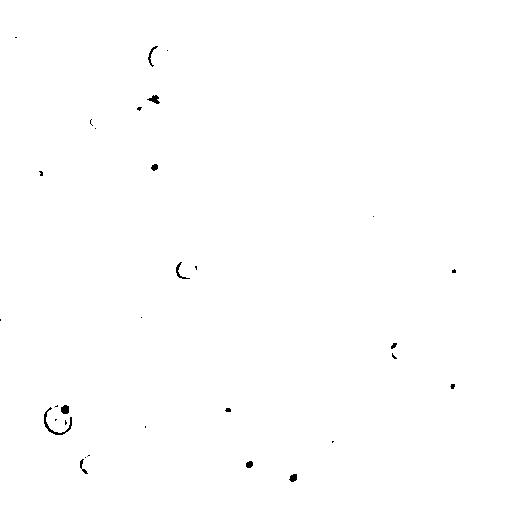micro-algae: (0, 295, 65, 370), (1, 75, 63, 148), (138, 261, 206, 326), (381, 315, 436, 367), (359, 439, 410, 491), (403, 375, 451, 420), (367, 350, 411, 392), (423, 307, 463, 348), (160, 139, 199, 177), (231, 15, 265, 55), (133, 149, 171, 182), (199, 26, 233, 59), (41, 403, 75, 435), (426, 0, 461, 31), (429, 249, 465, 279), (435, 371, 467, 403), (277, 463, 311, 493), (11, 29, 43, 60), (65, 0, 100, 25), (233, 448, 263, 477), (409, 291, 439, 319), (213, 395, 244, 422), (80, 218, 106, 250), (115, 210, 139, 243), (315, 426, 345, 452), (380, 41, 403, 73), (273, 75, 300, 101), (77, 451, 103, 478), (147, 44, 172, 70), (122, 414, 148, 439), (51, 394, 78, 418), (335, 461, 361, 485), (1, 15, 23, 42), (248, 109, 272, 133), (265, 143, 287, 169), (175, 256, 199, 279), (391, 334, 415, 357), (289, 124, 313, 146), (369, 199, 393, 220), (425, 449, 444, 473), (159, 481, 181, 499), (139, 338, 157, 359), (90, 109, 107, 130), (159, 455, 178, 472), (129, 303, 147, 320), (183, 499, 205, 511), (27, 166, 43, 179), (288, 499, 305, 511), (43, 0, 67, 8)
